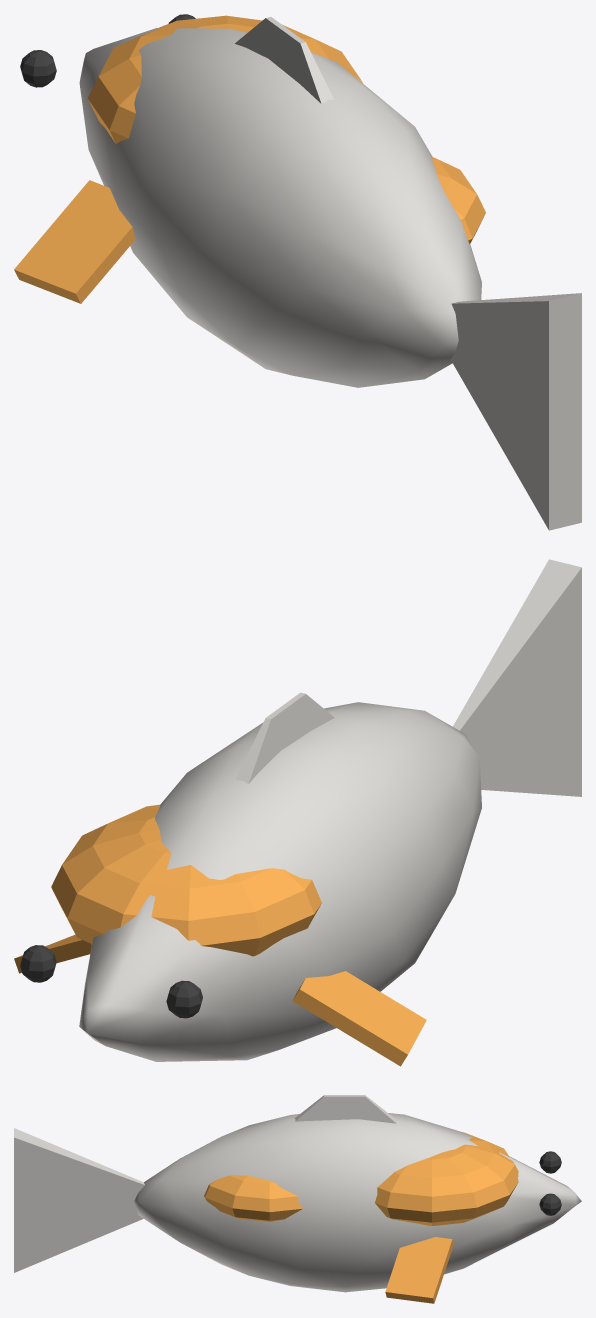
The model's file is koi.glb.
3 renders of one model, top to bottom at view 1: azimuth 30°, elevation 25°; view 2: azimuth 150°, elevation 25°; view 3: azimuth 270°, elevation 25°, orthographic. The views are drawn at different scales.
Parts seen in each view (by area): view 1: koi; view 2: koi; view 3: koi.
Boxes of the visible parts, bbox=[...] form: koi: bbox=[14, 14, 581, 530]; koi: bbox=[14, 559, 581, 1066]; koi: bbox=[14, 1095, 581, 1303].
Size of the model in its own units: 0.4311 by 0.334 by 0.9103.
